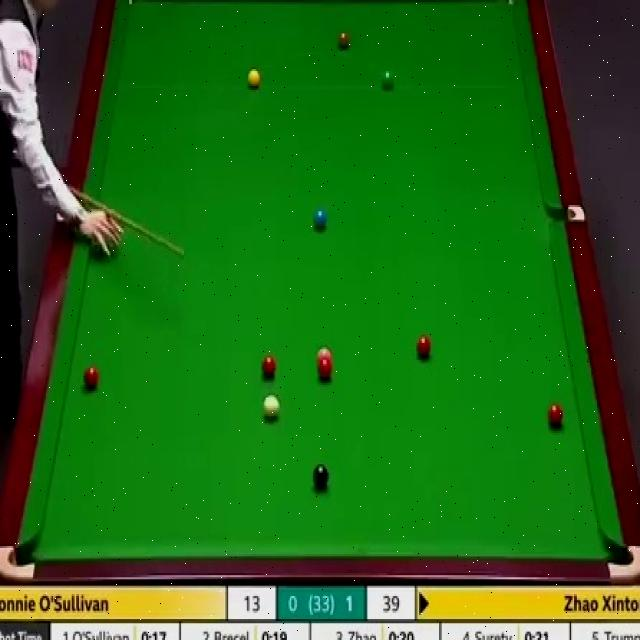black-ball: (313, 462, 329, 489)
blue-ball: (313, 207, 328, 230)
brown-ball: (337, 30, 350, 51)
green-ball: (380, 68, 394, 90)
pink-ball: (316, 347, 333, 362)
red-ball: (83, 364, 100, 392), (547, 405, 565, 428), (316, 359, 333, 381), (261, 355, 276, 379), (416, 335, 430, 360)
white-ball: (262, 394, 280, 420)
yellow-ball: (246, 71, 262, 89)
